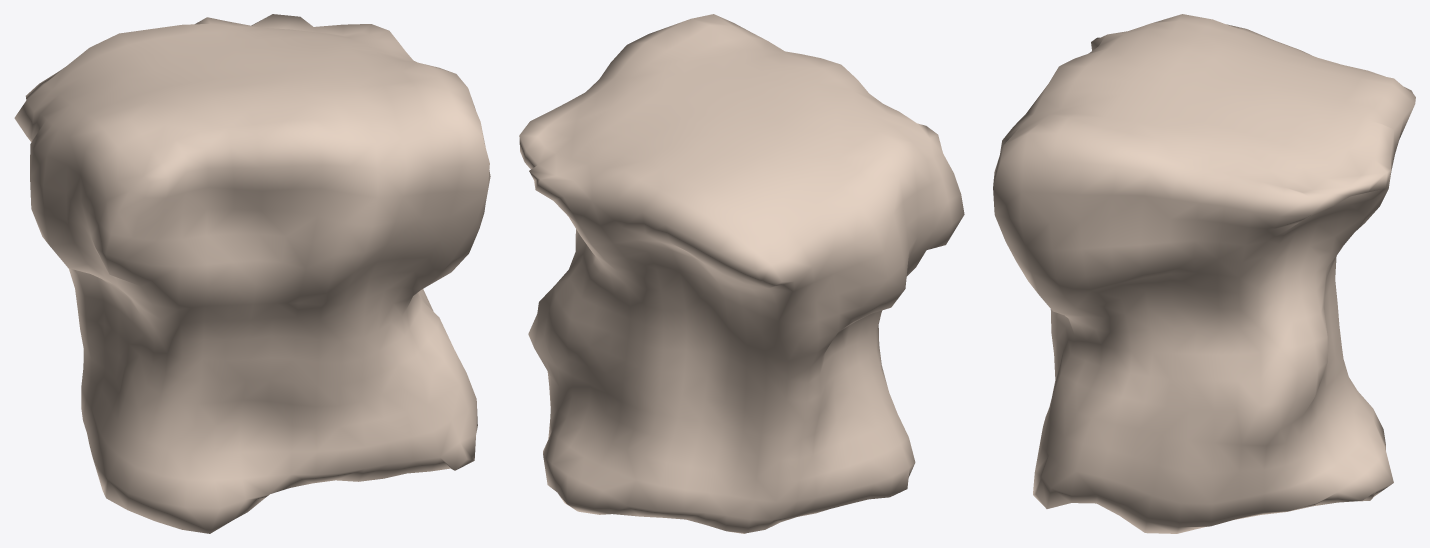
Rendered from Rock_10_BIG.fbx.
3 views of the same model, side by side, from view 1: azimuth 30°, elevation 25°; view 2: azimuth 150°, elevation 25°; view 3: azimuth 270°, elevation 25° (orthographic). The views are drawn at different scales.
Parts seen in each view (by area): view 1: Rock_10; view 2: Rock_10; view 3: Rock_10.
Boxes of the visible parts, left/top/right/bottom form: Rock_10: left=14, top=14, right=490, bottom=533; Rock_10: left=519, top=14, right=964, bottom=533; Rock_10: left=993, top=14, right=1415, bottom=533.
Size of the model in its own units: 4943 by 5020 by 4825.
